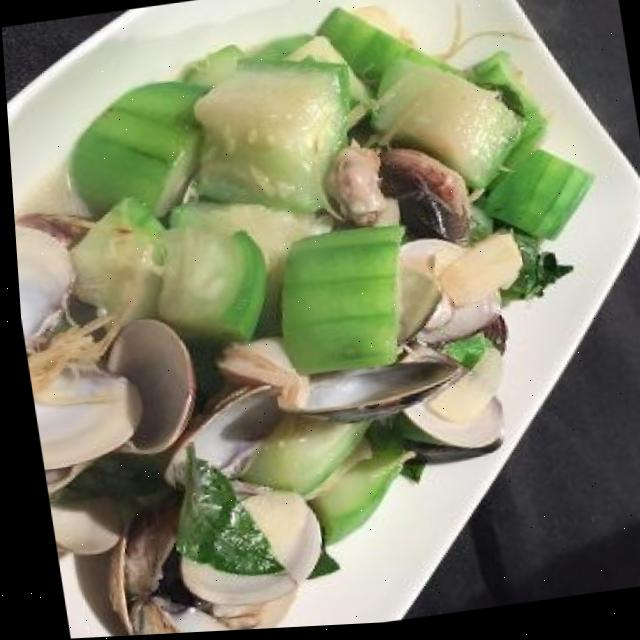Wet: (3, 25, 613, 618)
